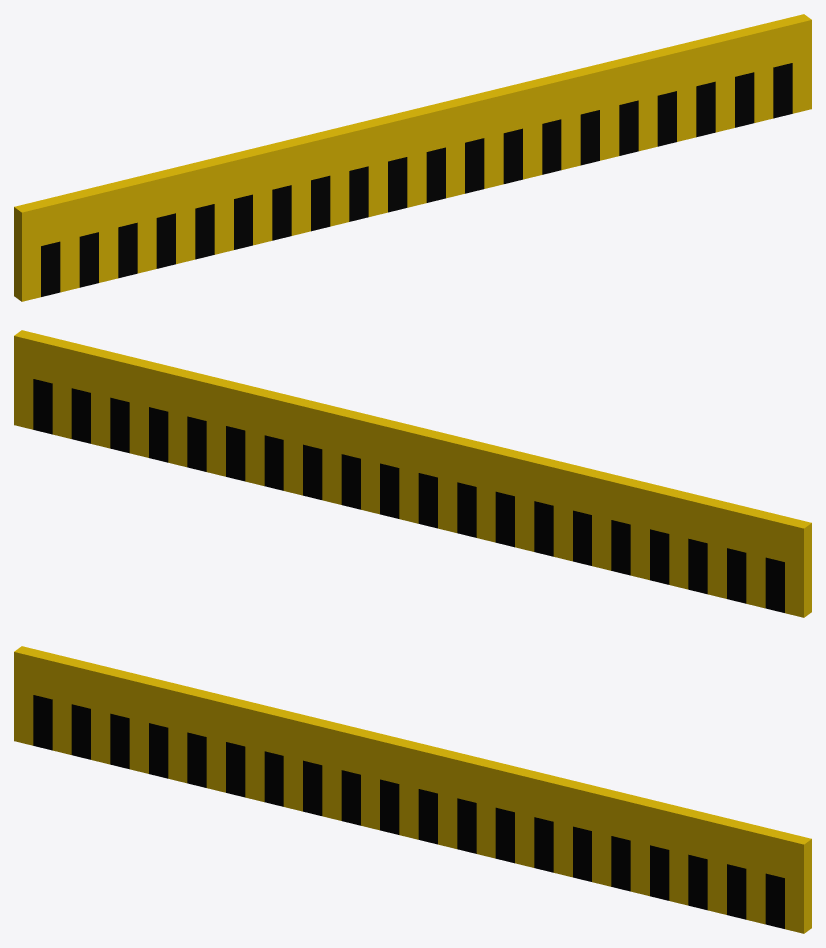
Rendered from Regle_Geo.fbx.
3 views of the same model, one above another, from view 1: azimuth 30°, elevation 25°; view 2: azimuth 150°, elevation 25°; view 3: azimuth 330°, elevation 25° (orthographic).
Visible parts, largest first — view 1: Regle; view 2: Regle; view 3: Regle.
Boxes of the visible parts, <box> form: Regle: <box>14,14,811,301</box>; Regle: <box>14,330,811,617</box>; Regle: <box>14,646,811,933</box>.
Size of the model in its own units: 6.55 by 0.7072 by 0.1133.
